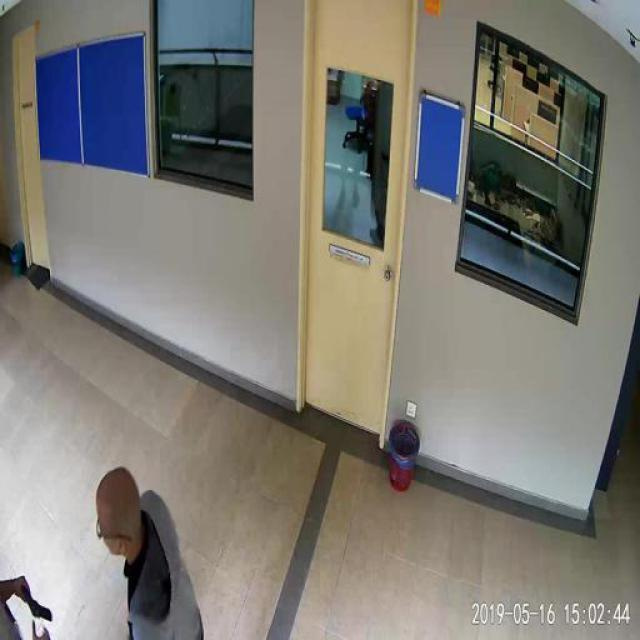weapon: (14, 576, 54, 624)
